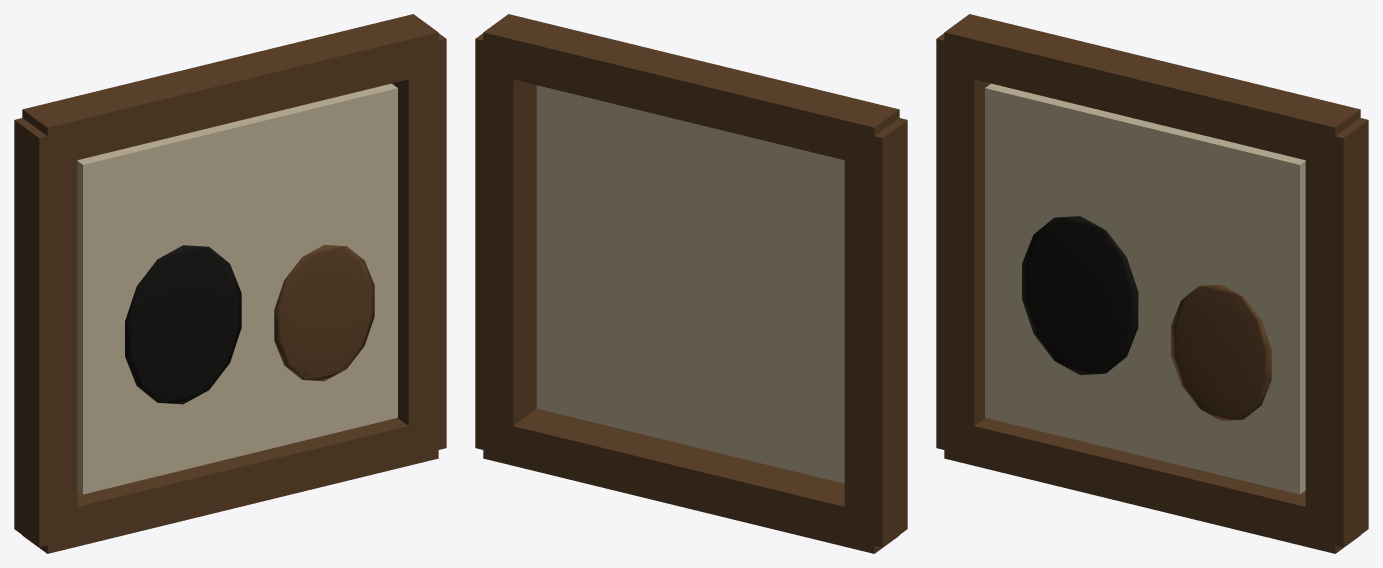
Rendered from photo_frame.glb.
3 renders of one model, left to right at view 1: azimuth 30°, elevation 25°; view 2: azimuth 150°, elevation 25°; view 3: azimuth 330°, elevation 25°, orthographic.
Parts seen in each view (by area): view 1: paper__photo_surface, wood__wood_frame_left, wood__wood_frame_top, wood__wood_frame_right, wood__wood_frame_bottom, dark__photo_silhouette, wood__photo_silhouette_2; view 2: paper__photo_surface, wood__wood_frame_left, wood__wood_frame_top, wood__wood_frame_right, wood__wood_frame_bottom; view 3: paper__photo_surface, wood__wood_frame_right, wood__wood_frame_top, wood__wood_frame_bottom, wood__wood_frame_left, dark__photo_silhouette, wood__photo_silhouette_2.
Boxes of the visible parts, left/top/right/bottom form: paper__photo_surface: left=77, top=83, right=397, bottom=494; wood__wood_frame_left: left=14, top=118, right=77, bottom=547; wood__wood_frame_top: left=22, top=14, right=438, bottom=166; wood__wood_frame_right: left=392, top=33, right=446, bottom=456; wood__wood_frame_bottom: left=22, top=418, right=438, bottom=553; dark__photo_silhouette: left=125, top=245, right=241, bottom=404; wood__photo_silhouette_2: left=274, top=245, right=374, bottom=381; paper__photo_surface: left=536, top=85, right=844, bottom=483; wood__wood_frame_left: left=844, top=118, right=907, bottom=547; wood__wood_frame_top: left=483, top=14, right=899, bottom=167; wood__wood_frame_right: left=475, top=33, right=536, bottom=456; wood__wood_frame_bottom: left=483, top=408, right=899, bottom=553; paper__photo_surface: left=985, top=83, right=1305, bottom=494; wood__wood_frame_right: left=1305, top=118, right=1368, bottom=547; wood__wood_frame_top: left=944, top=14, right=1360, bottom=166; wood__wood_frame_bottom: left=944, top=418, right=1360, bottom=553; wood__wood_frame_left: left=936, top=33, right=990, bottom=456; dark__photo_silhouette: left=1022, top=216, right=1138, bottom=375; wood__photo_silhouette_2: left=1171, top=284, right=1271, bottom=420.
Size of the model in its own units: 0.375 by 0.375 by 0.0429.
